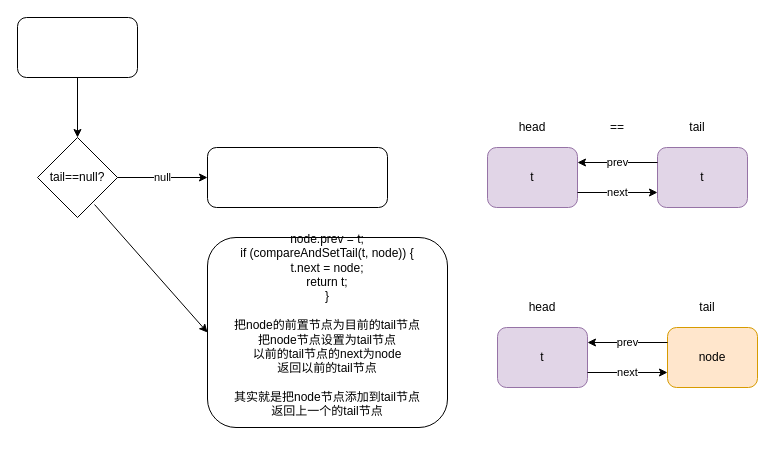
Image size: 775x450. Some labels were removed from this diagram. The shapes that lost their labels are listed below. From the top down, each one's centre as x and y in pixels, then its label:
the point at 77,47: enq(Node node)
the point at 297,177: 初始化Node t = new Node() head = tail = t;
